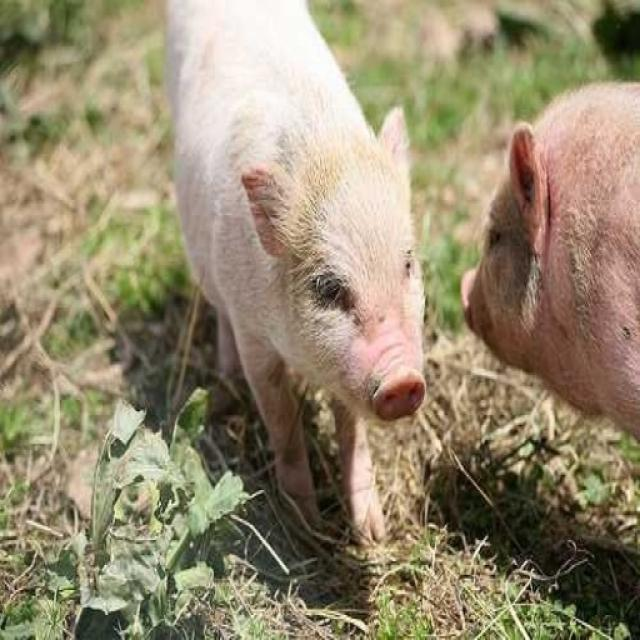pig: (142, 0, 454, 555), (456, 80, 640, 428)
